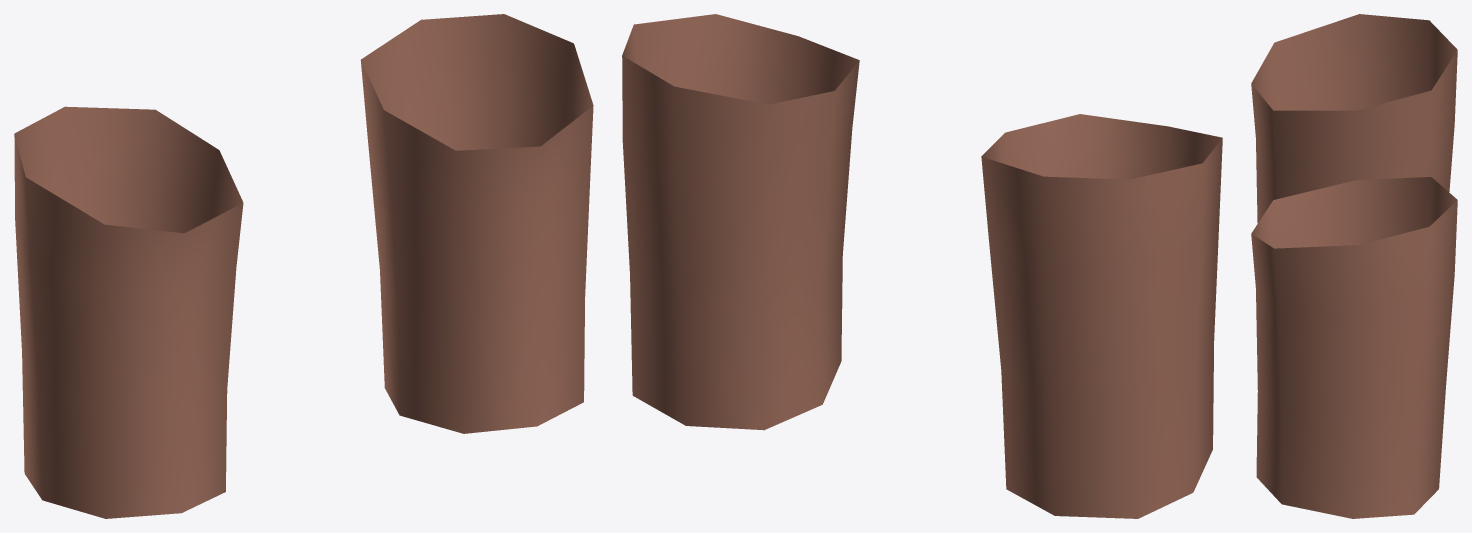
The model's file is Body_Brown_LegA_2.fbx.
3 views of the same model, side by side, from view 1: azimuth 30°, elevation 25°; view 2: azimuth 150°, elevation 25°; view 3: azimuth 270°, elevation 25° (orthographic). The views are drawn at different scales.
Parts seen in each view (by area): view 1: Body_Brown_LegA_2; view 2: Body_Brown_LegA_2; view 3: Body_Brown_LegA_2.
Part boxes in pixels (bbox=[...]): Body_Brown_LegA_2: bbox=[14, 14, 593, 518]; Body_Brown_LegA_2: bbox=[622, 14, 1222, 518]; Body_Brown_LegA_2: bbox=[1251, 14, 1457, 518].
Bounding box in the file's own units: 31.33 × 18.38 × 11.84.
